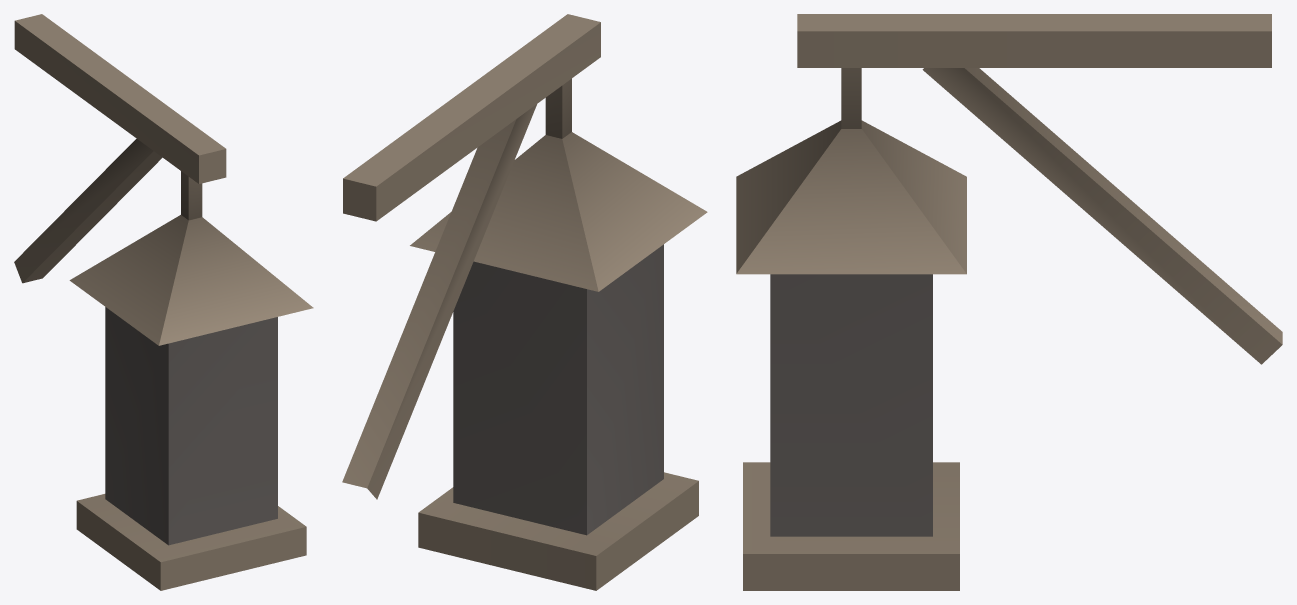
File: sg_cresset.glb
The picture shows the model from 3 angles, left to right: view 1: azimuth 30°, elevation 25°; view 2: azimuth 150°, elevation 25°; view 3: azimuth 270°, elevation 25°; orthographic projection. The views are drawn at different scales.
Parts seen in each view (by area): view 1: sg_cresset_SG_Joinery, sg_cresset_SG_Glow; view 2: sg_cresset_SG_Joinery, sg_cresset_SG_Glow; view 3: sg_cresset_SG_Joinery, sg_cresset_SG_Glow.
Boxes of the visible parts, x1,y1,x2,y2 form: sg_cresset_SG_Joinery: (14,14,313,590); sg_cresset_SG_Glow: (105,307,277,545); sg_cresset_SG_Joinery: (342,14,707,590); sg_cresset_SG_Glow: (453,244,663,535); sg_cresset_SG_Joinery: (736,14,1282,590); sg_cresset_SG_Glow: (770,274,932,536).
Bounding box in the file's own units: 0.34 × 0.85 × 0.8056.
